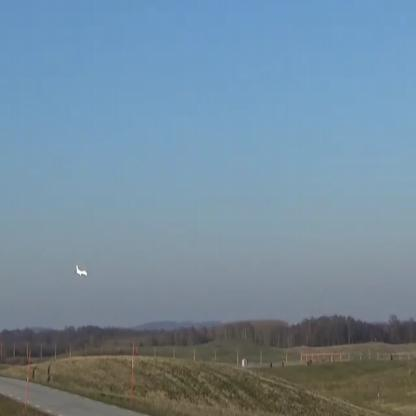CIV_Plane: (76, 264, 88, 278)
